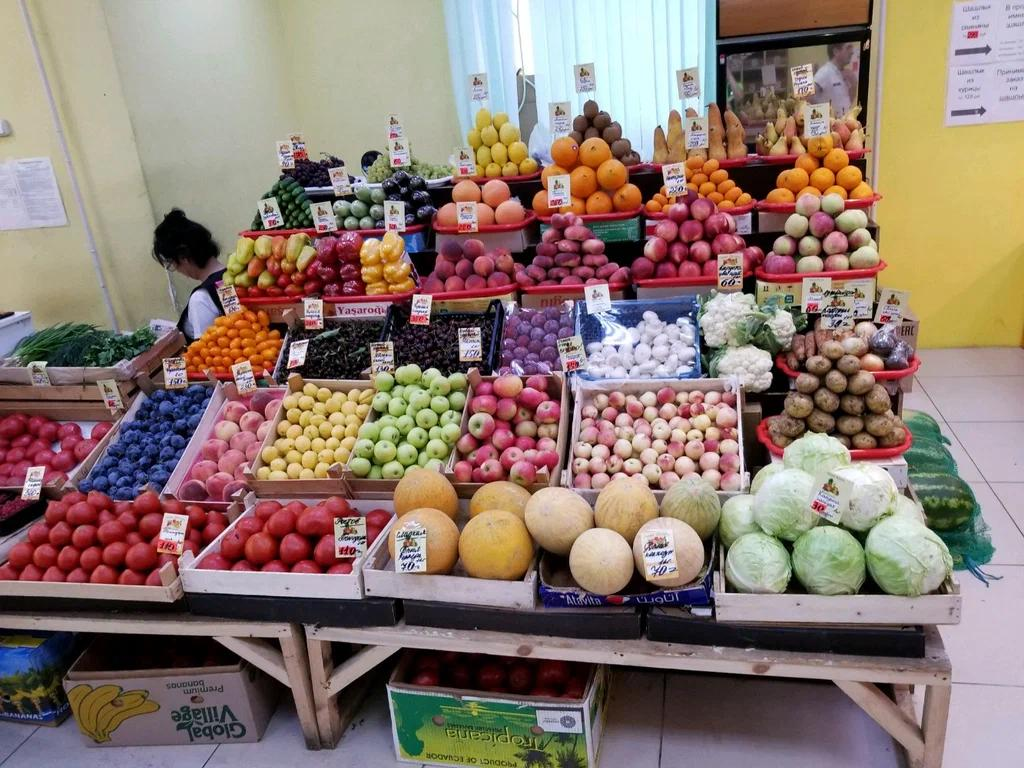cabbage: (720, 447, 934, 587)
cucumber: (248, 177, 325, 228)
eggplant: (386, 170, 436, 224)
grapes: (279, 152, 453, 183)
green apple: (353, 374, 471, 479), (762, 194, 886, 269)
lemon: (459, 107, 535, 175)
mandarin: (646, 154, 755, 207)
melon: (392, 471, 719, 594)
orange: (536, 140, 642, 215), (761, 132, 878, 199)
pear: (652, 105, 877, 155)
potato: (767, 354, 905, 447)
red apple: (456, 370, 568, 479), (631, 191, 755, 277)
sweet pepper: (222, 234, 413, 291)
tomato: (26, 488, 391, 594), (395, 650, 588, 704), (0, 416, 116, 493)
watermelon: (902, 405, 987, 537)
